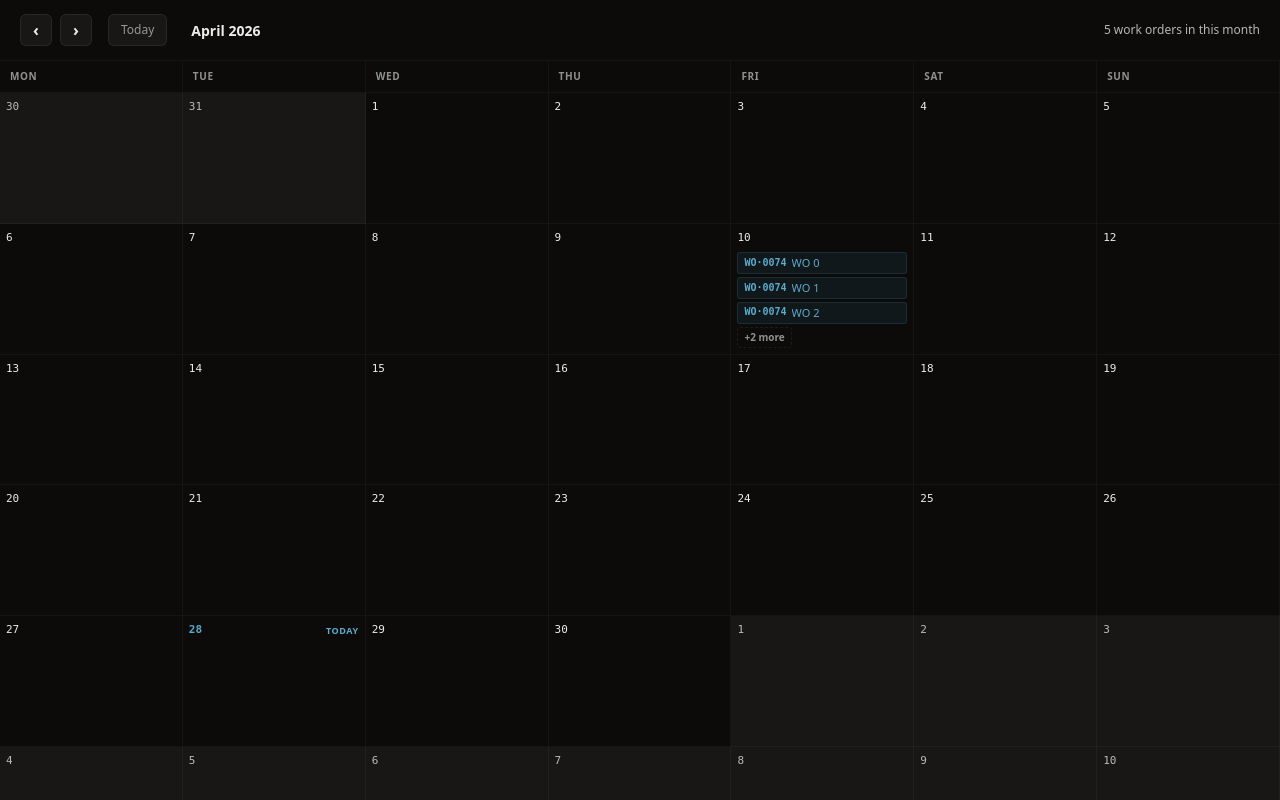
Test: <WorkOrderCalendar> › expanding + collapsing toggles full-day chip list
Click the button "+2 more": [765, 337] box [737,326,792,348]
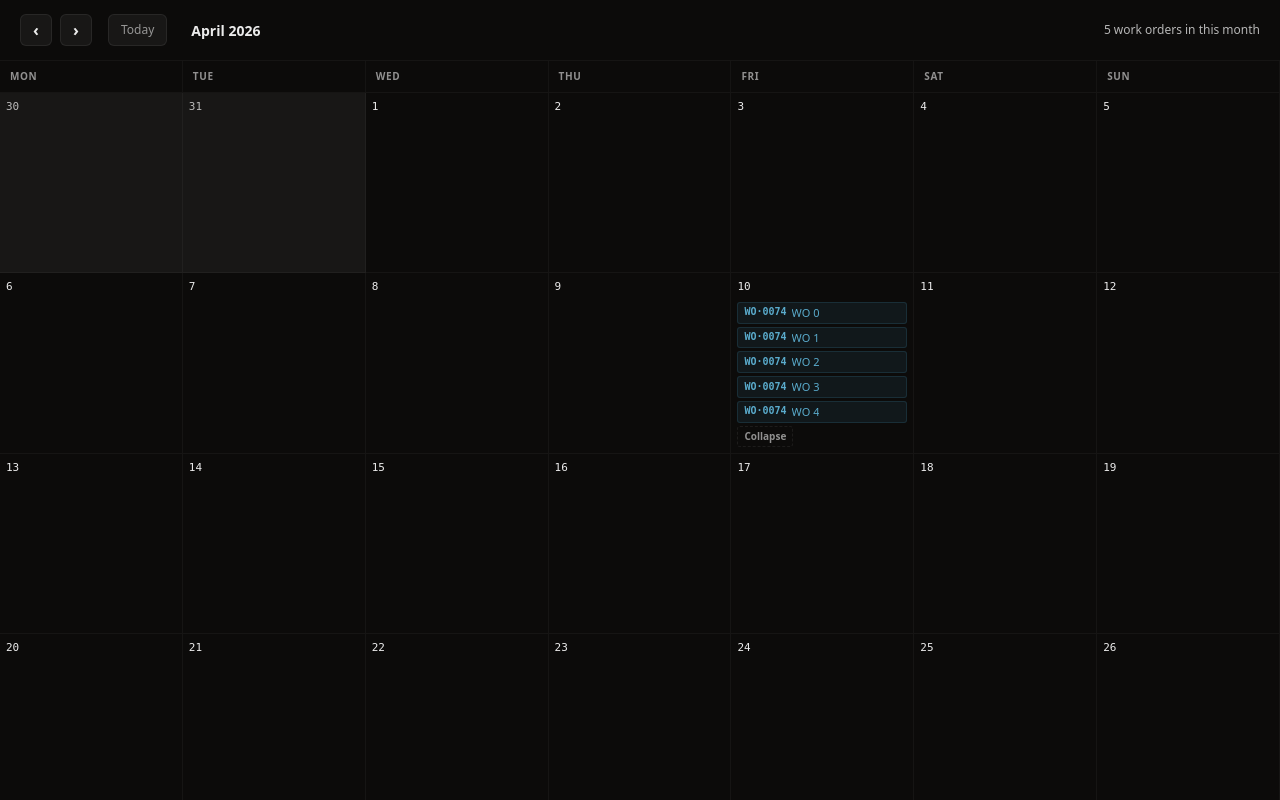
Expected: the element with test id "wo-calendar-cell-2026-04-10" shows "Collapse", [737,426,793,446]
